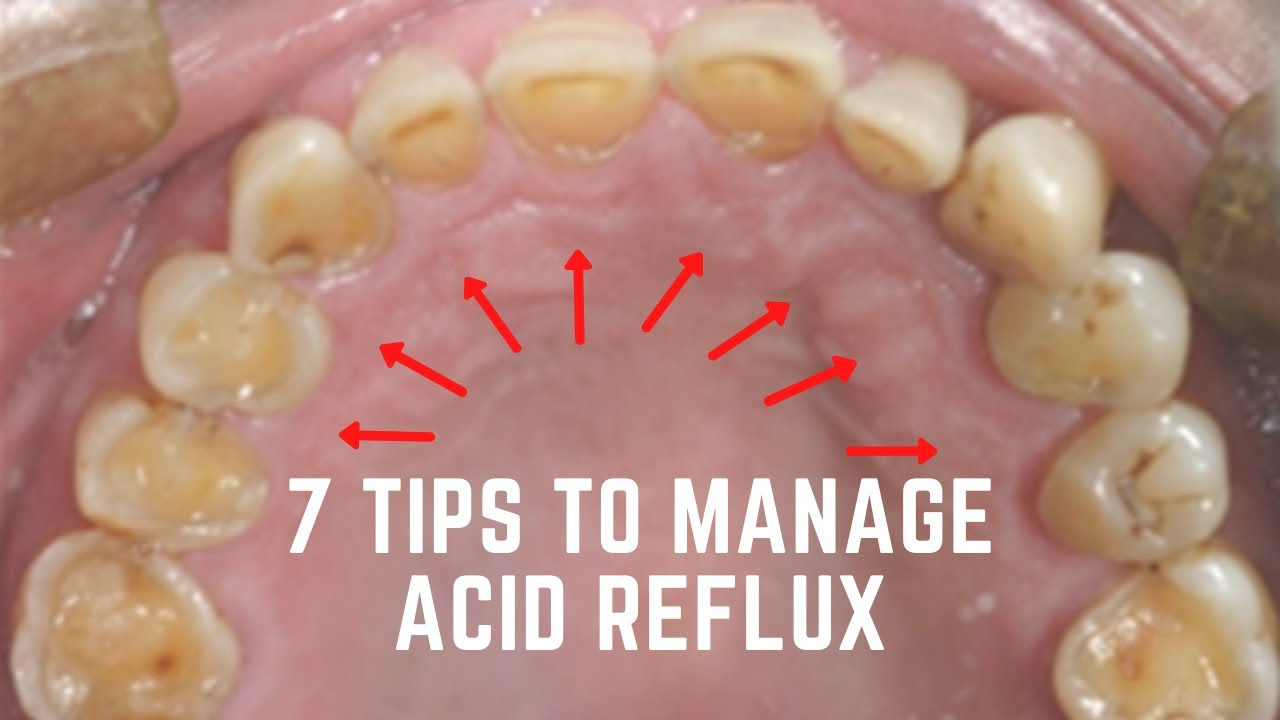UL1BC_decay: (1004, 277, 1195, 406)
UL1M_decay: (1048, 573, 1276, 717)
UL2BC_decay: (1033, 403, 1232, 554)
ULCI_decay: (666, 24, 837, 156)
ULC_decay: (958, 115, 1103, 284)
ULLI_decay: (840, 72, 962, 191)
UR1BC_decay: (140, 267, 329, 410)
UR1M_decay: (33, 536, 239, 720)
UR2BC_decay: (59, 391, 276, 552)
URCI_decay: (494, 25, 658, 151)
URC_decay: (229, 130, 394, 270)
URLI_decay: (350, 61, 491, 177)
